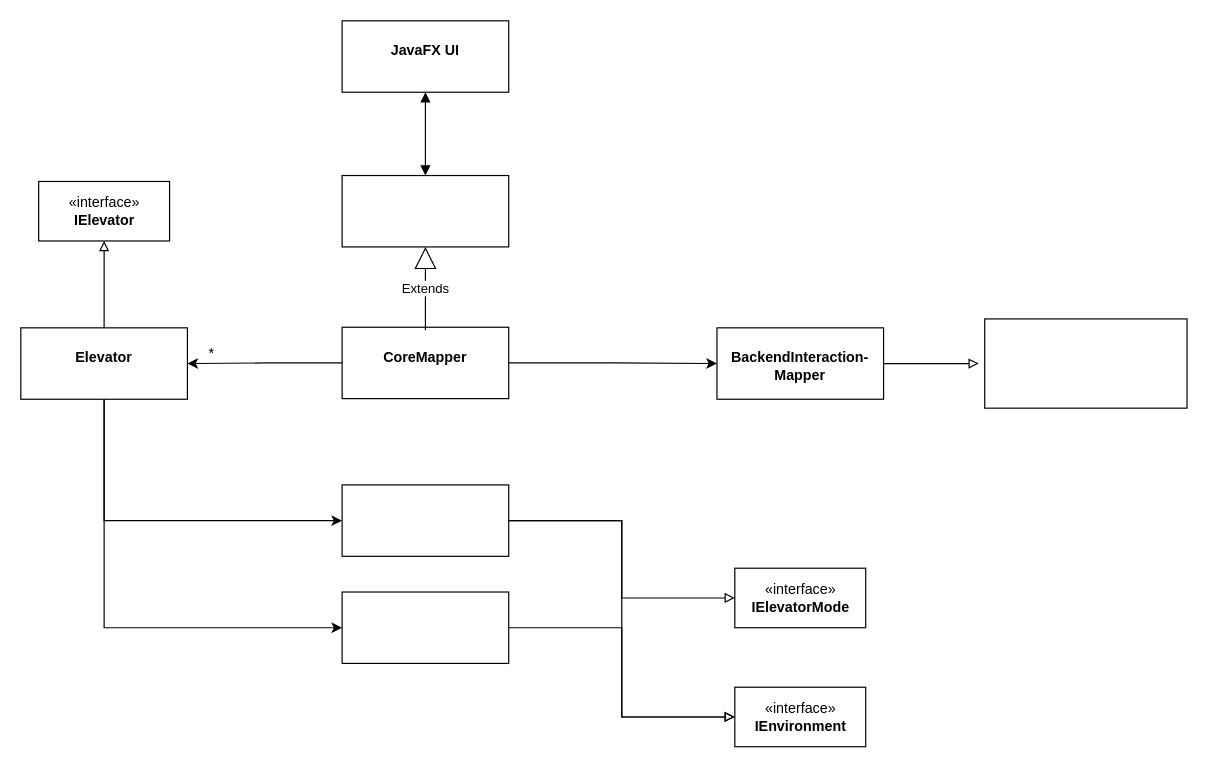
The diagram is 1208 pixels wide and 768 high, and some of its shapes have lost their labels. The shapes that lost their labels are listed below. From the top down, each one's centre as x and y in pixels, then its label:
At (425,210): "Interactable".
At (1085,363): "«interface» IBackendInteractionMapper".
At (425,520): "ElevatorAutomatic".
At (425,627): "ElevatorManual".
